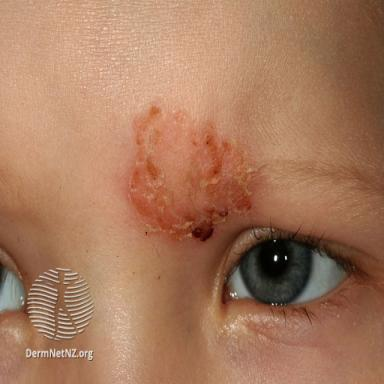Impetigo: (127, 107, 258, 243)
